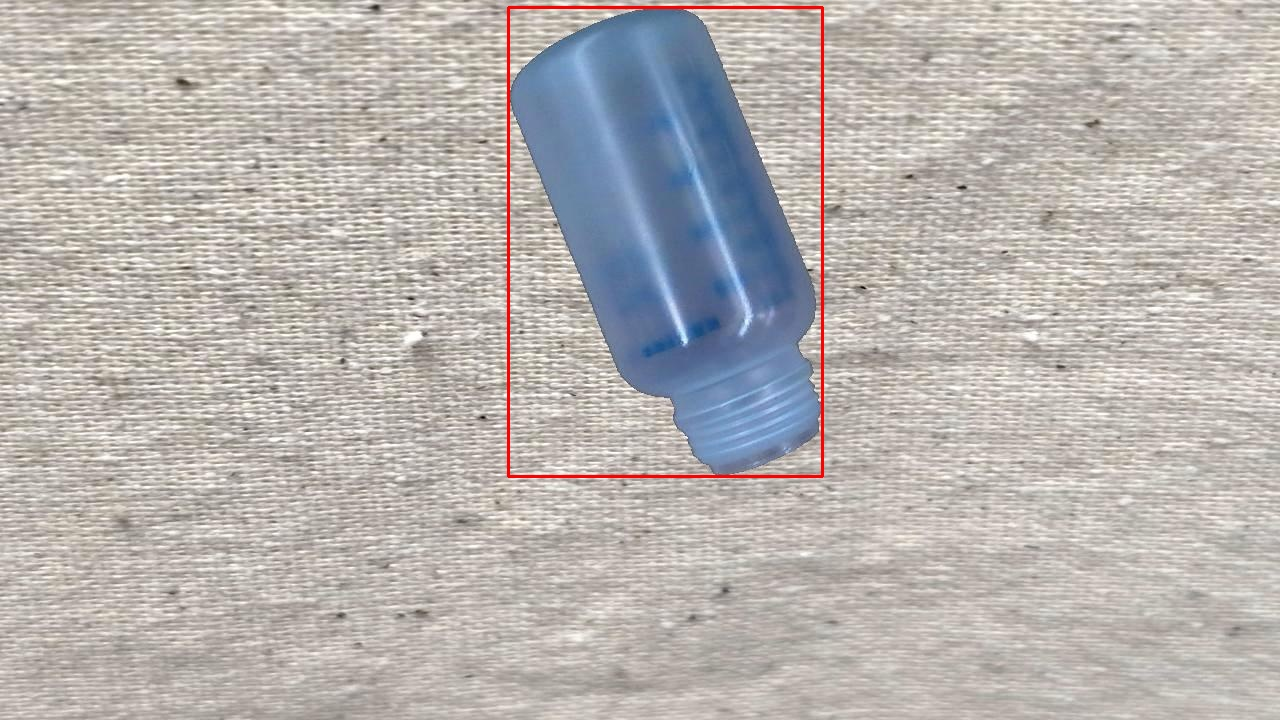cup: (508, 7, 822, 476)
